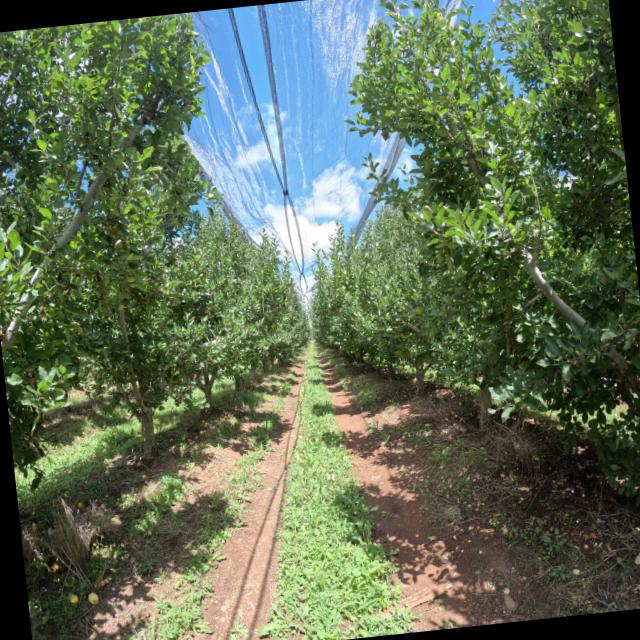-FireBlight-: (505, 333, 519, 356)
